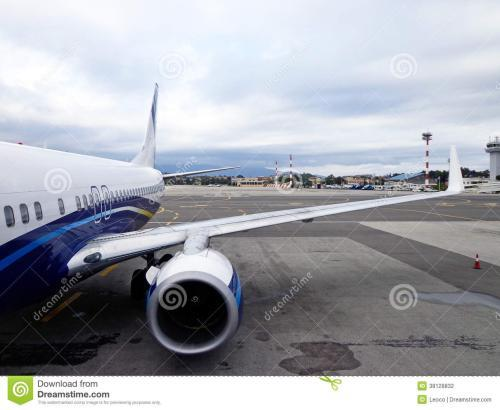airplane: (1, 77, 473, 367)
